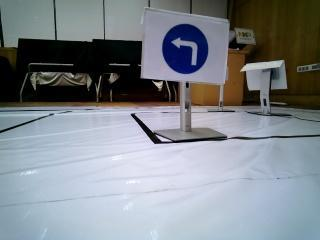left: (150, 7, 225, 82)
